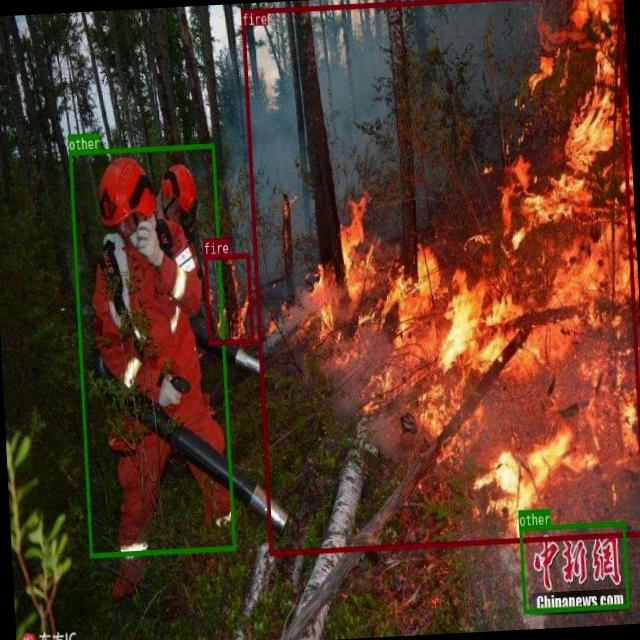fire: (240, 0, 640, 555), (203, 252, 254, 344)
